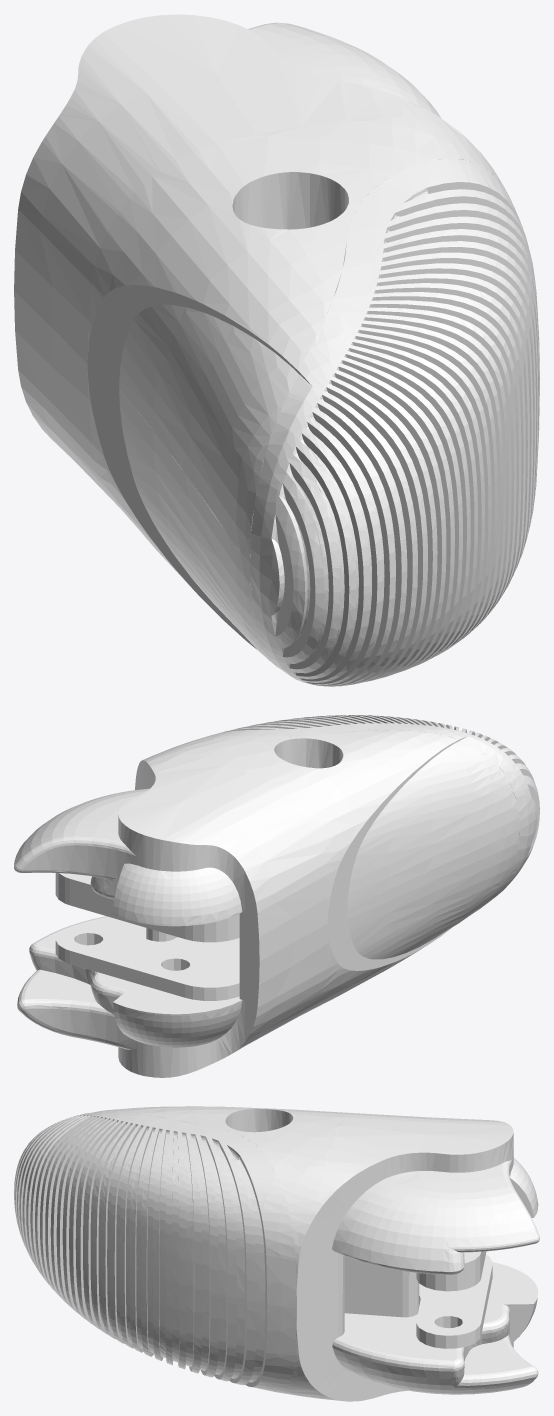
The model's file is rh_thumb_distal_vis.obj.
The picture shows the model from 3 angles, top to bottom: view 1: azimuth 30°, elevation 25°; view 2: azimuth 150°, elevation 25°; view 3: azimuth 270°, elevation 25°; orthographic projection. The views are drawn at different scales.
Parts seen in each view (by area): view 1: rh_thumb_distal; view 2: rh_thumb_distal; view 3: rh_thumb_distal.
Part boxes in pixels (box(x1,y1,x2,y2)): rh_thumb_distal: box(14, 14, 539, 686); rh_thumb_distal: box(14, 715, 539, 1077); rh_thumb_distal: box(14, 1106, 539, 1401).
Bounding box in the file's own units: 0.0235 × 0.0182 × 0.0365.
Materials: 1 (1 with a texture image).
